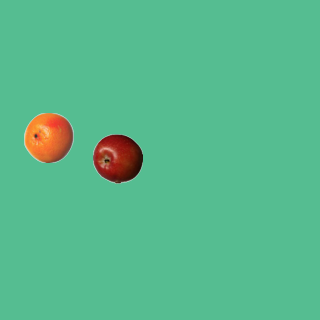Apple Braeburn: (92, 133, 142, 183)
Grapefruit Pink: (23, 112, 73, 162)
